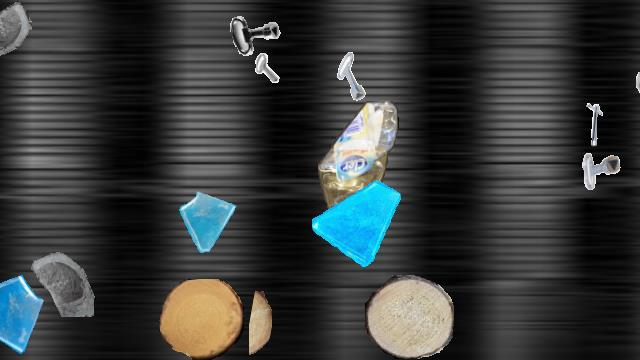glass: (312, 177, 402, 267), (21, 240, 97, 316), (176, 190, 240, 254), (0, 269, 45, 359), (0, 1, 32, 61)
metal: (223, 1, 285, 63), (573, 101, 627, 155), (329, 51, 379, 101), (231, 51, 279, 99), (580, 148, 622, 190), (624, 43, 640, 95)
plastic: (318, 101, 400, 247)
wood: (365, 275, 453, 359), (159, 279, 243, 359), (249, 291, 271, 359)
